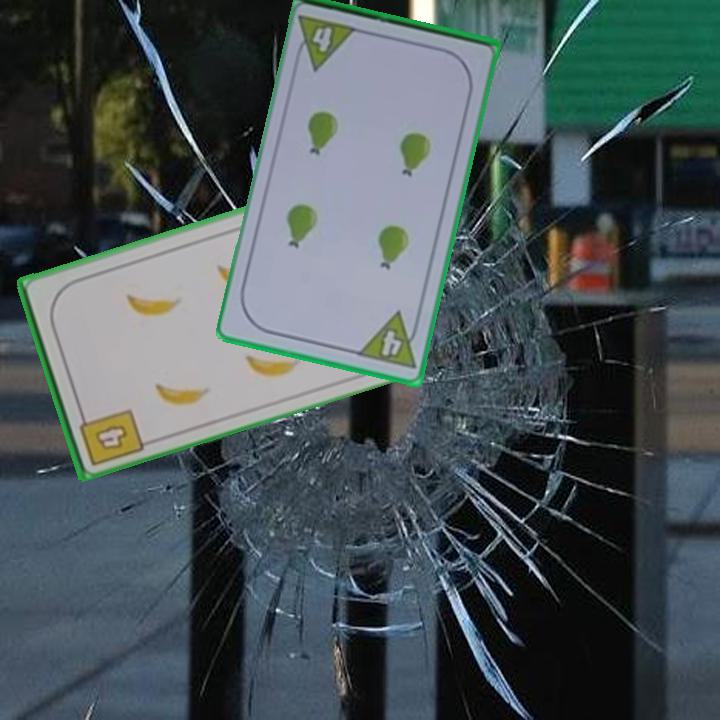4b: (75, 404, 146, 469)
4p: (354, 308, 424, 372), (290, 12, 361, 73)
